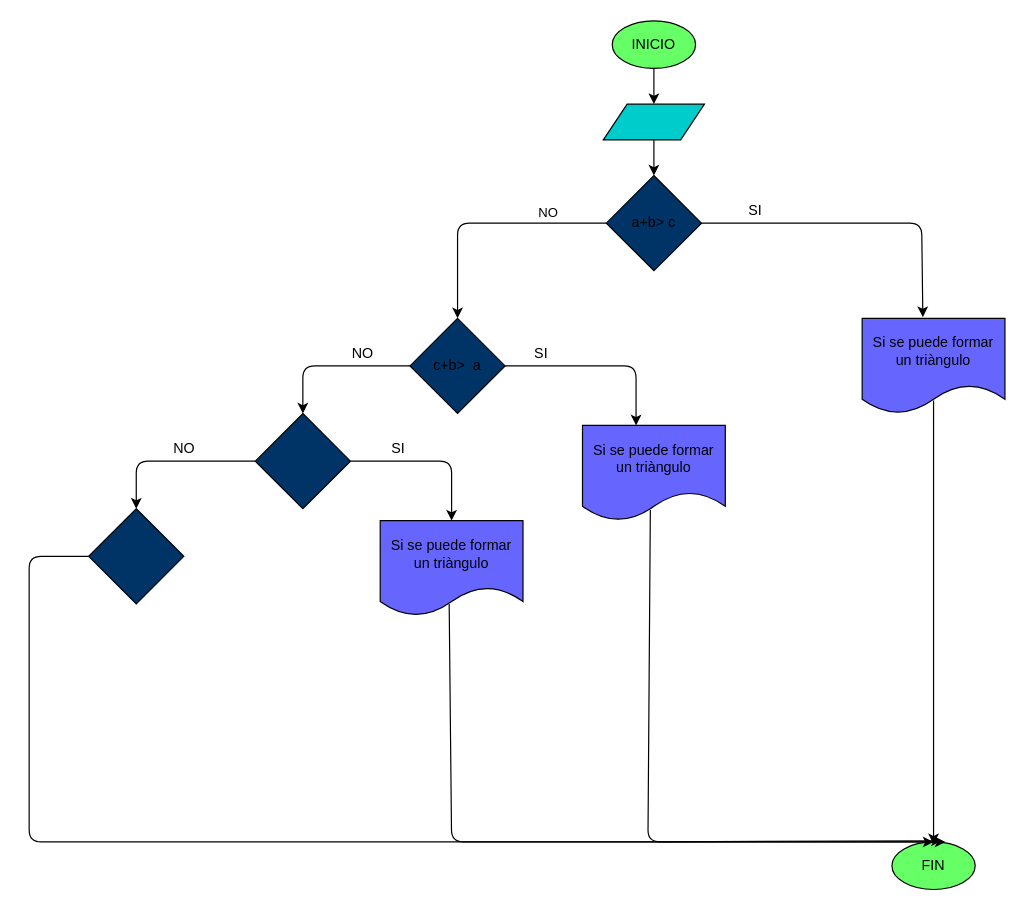
This 1026x910 diagram has some shape labels left out. Each missing label, with the centre of its shape:
"a, b, c" goes at (x=653, y=121).
"c+a> b" goes at (x=302, y=460).
"Opciòn no vàlida" goes at (x=135, y=556).
